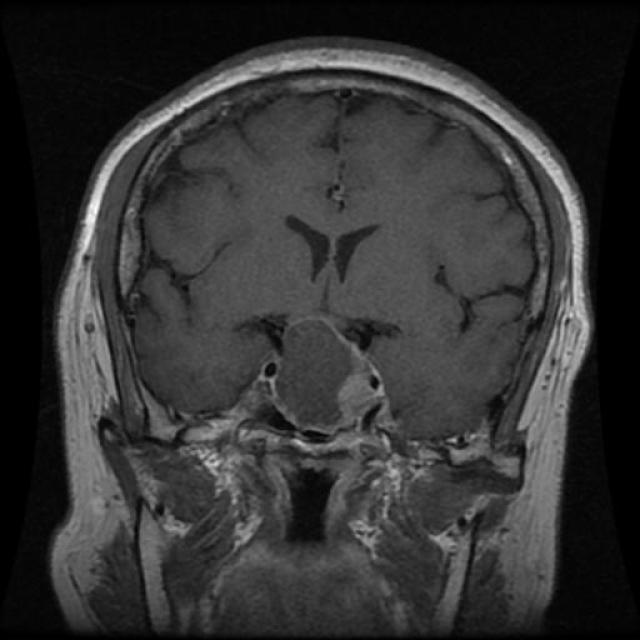pituitary: (266, 297, 388, 441)
